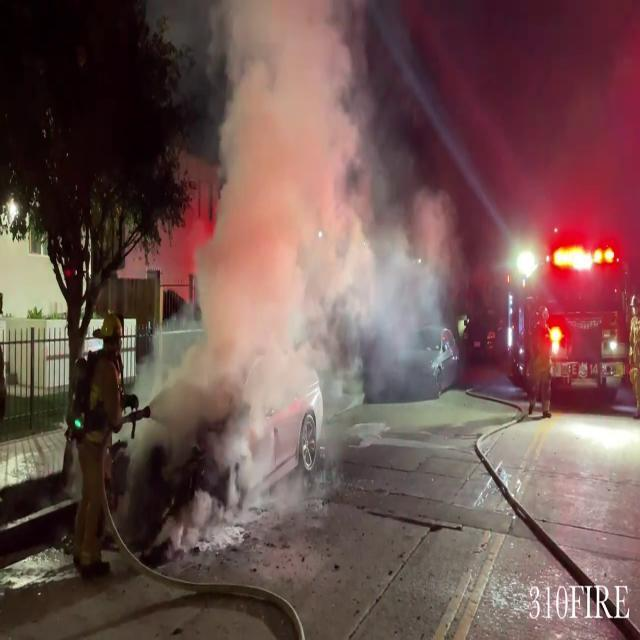Smoke: (142, 0, 455, 517)
